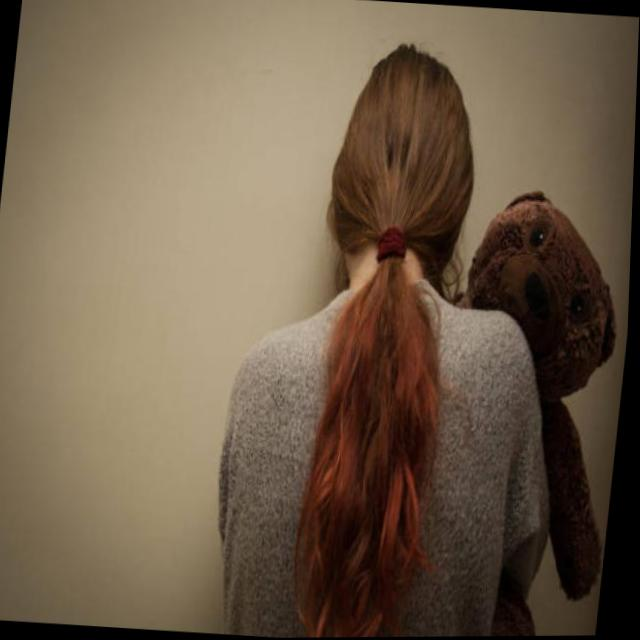no helmet: (315, 42, 485, 293)
